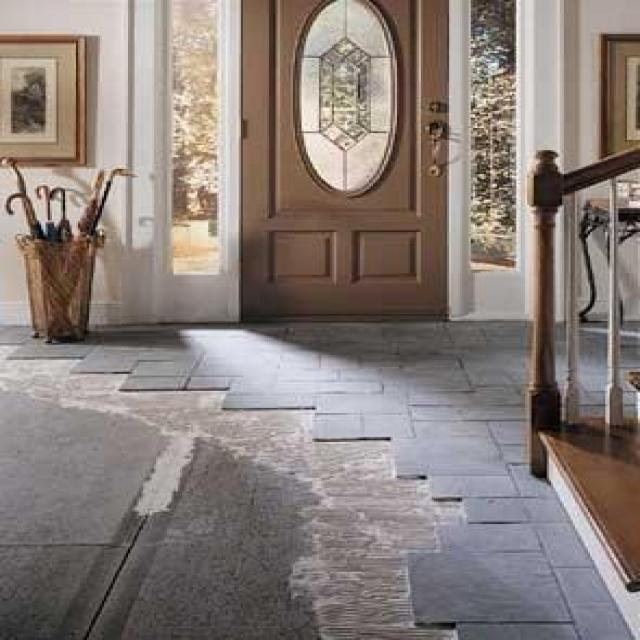door: (239, 0, 449, 321)
floor-decor: (0, 317, 638, 638)
pots: (13, 230, 102, 342)
shelves: (523, 126, 638, 632)
windows: (151, 0, 236, 276), (289, 0, 399, 198), (466, 0, 518, 271)
